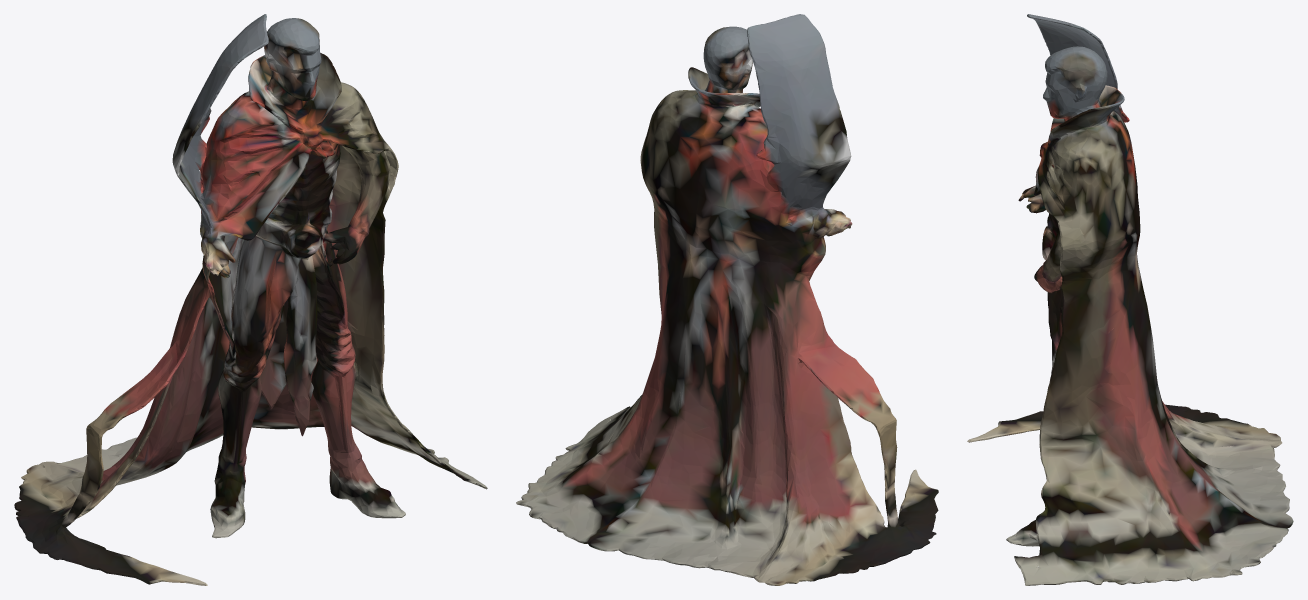
File: imoogi.glb
3 renders of one model, left to right at view 1: azimuth 30°, elevation 25°; view 2: azimuth 150°, elevation 25°; view 3: azimuth 270°, elevation 25°, orthographic. The views are drawn at different scales.
Visible parts, largest first — view 1: world; view 2: world; view 3: world.
Boxes of the visible parts, x1,y1,x2,y2 form: world: [14, 14, 487, 585]; world: [516, 14, 938, 585]; world: [967, 14, 1293, 585].
Size of the model in its own units: 0.8401 by 1 by 0.6253.
